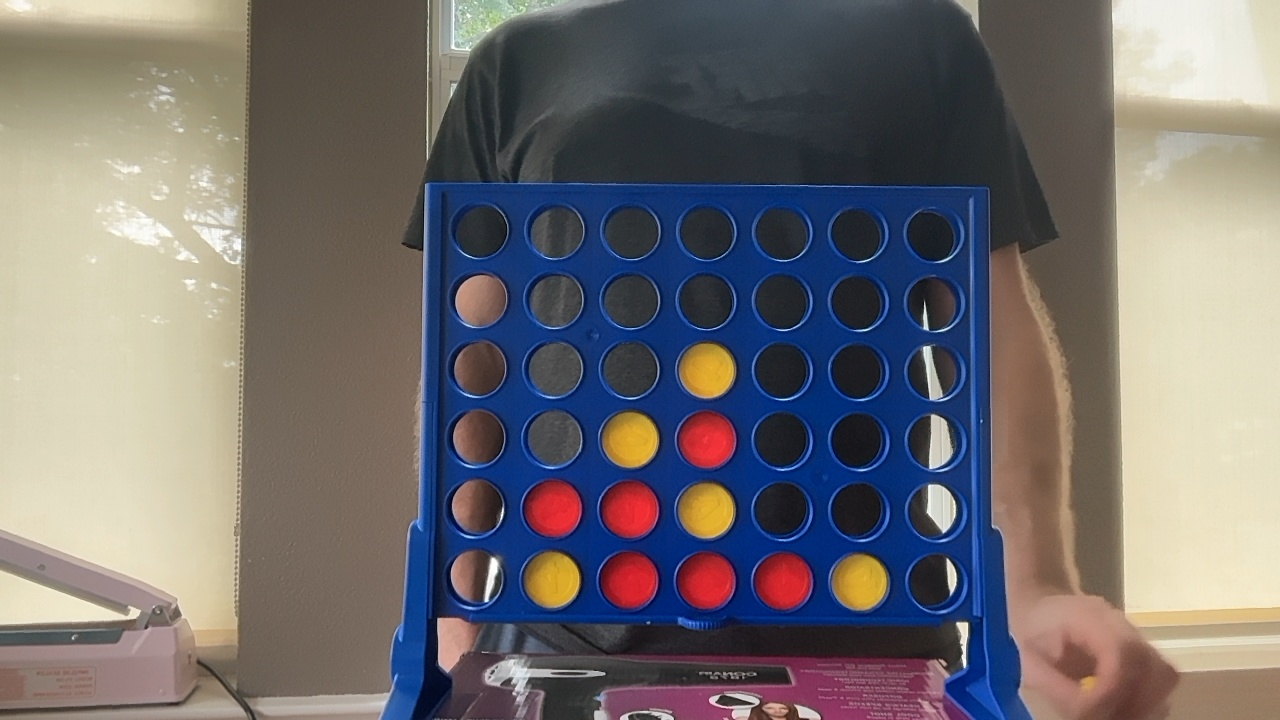red piece: (599, 551, 658, 609), (676, 552, 735, 610), (600, 480, 658, 539), (677, 411, 735, 469), (753, 553, 812, 610), (523, 480, 581, 537)
yellow piece: (523, 551, 581, 609), (677, 482, 735, 539), (678, 342, 735, 399), (601, 411, 658, 468), (831, 554, 888, 611)
